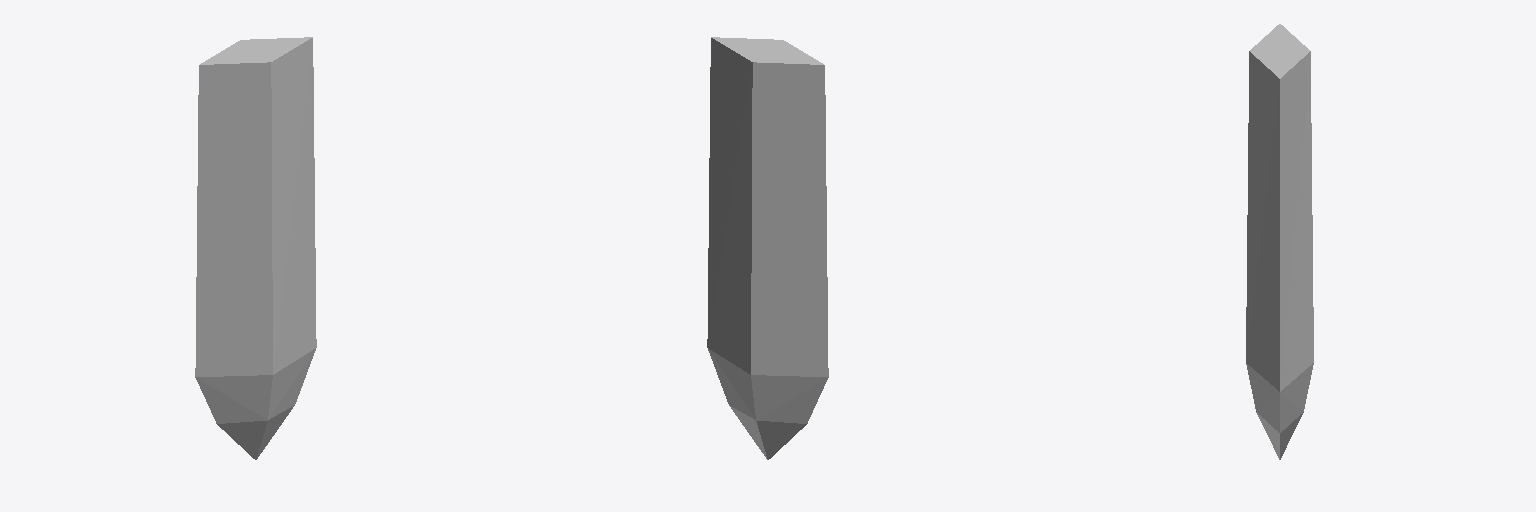
The model's file is vaina.obj.
3 renders of one model, left to right at view 1: azimuth 30°, elevation 25°; view 2: azimuth 150°, elevation 25°; view 3: azimuth 270°, elevation 25°, orthographic.
Parts seen in each view (by area): view 1: vaina; view 2: vaina; view 3: vaina.
Boxes of the visible parts, box(x1,y1,x2,y2) form: vaina: box(195, 37, 316, 459); vaina: box(707, 37, 828, 459); vaina: box(1246, 24, 1313, 459).
Size of the model in its own units: 0.5622 by 1.82 by 0.274.